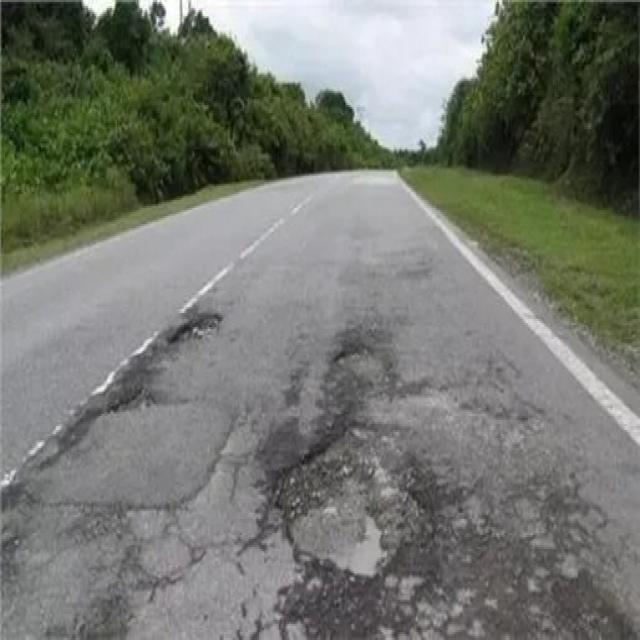Pothole: (270, 422, 432, 575), (332, 343, 388, 384), (168, 311, 223, 343), (111, 383, 153, 416)
